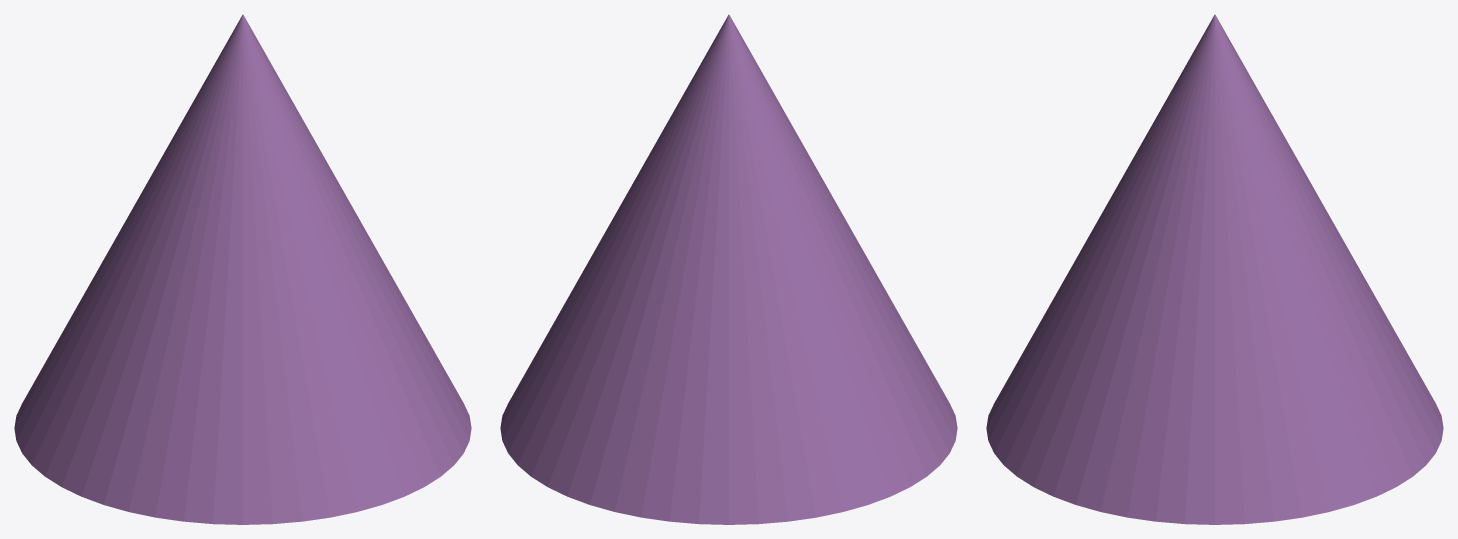
3 renders of one model, left to right at view 1: azimuth 30°, elevation 25°; view 2: azimuth 150°, elevation 25°; view 3: azimuth 270°, elevation 25°, orthographic.
Parts seen in each view (by area): view 1: Mesh_Mesh_head_geo.001_lambert2SG.001; view 2: Mesh_Mesh_head_geo.001_lambert2SG.001; view 3: Mesh_Mesh_head_geo.001_lambert2SG.001.
Part boxes in pixels (bbox=[...]): Mesh_Mesh_head_geo.001_lambert2SG.001: bbox=[14, 14, 471, 524]; Mesh_Mesh_head_geo.001_lambert2SG.001: bbox=[500, 14, 957, 524]; Mesh_Mesh_head_geo.001_lambert2SG.001: bbox=[986, 14, 1443, 524].
Bounding box in the file's own units: 0.075 × 0.075 × 0.075.
